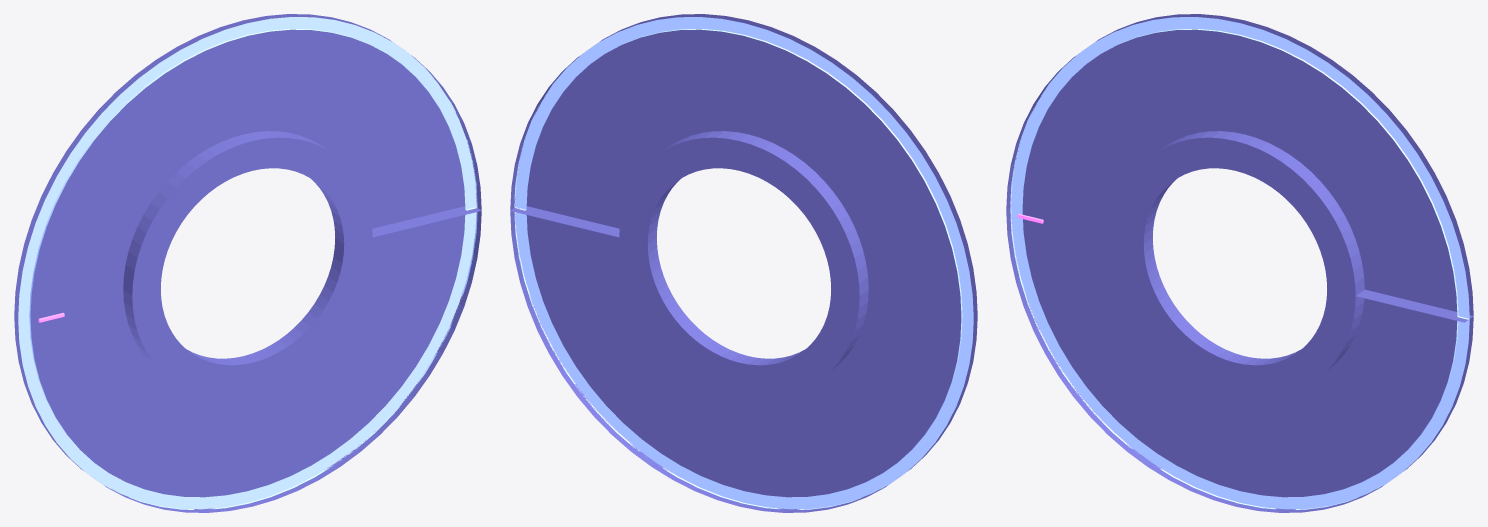
File: prism-panel-fun8-high.glb
The picture shows the model from 3 angles, left to right: view 1: azimuth 30°, elevation 25°; view 2: azimuth 150°, elevation 25°; view 3: azimuth 330°, elevation 25°; orthographic projection.
Visible parts, largest first — view 1: RENDER_PANEL_SHELL, RENDER_PANEL_FRAME; view 2: RENDER_PANEL_SHELL, RENDER_PANEL_FRAME; view 3: RENDER_PANEL_SHELL, RENDER_PANEL_FRAME.
Part boxes in pixels (x1,y1,x2,y2): RENDER_PANEL_SHELL: [14, 14, 481, 512]; RENDER_PANEL_FRAME: [18, 17, 477, 509]; RENDER_PANEL_SHELL: [510, 14, 977, 512]; RENDER_PANEL_FRAME: [514, 17, 973, 509]; RENDER_PANEL_SHELL: [1006, 14, 1473, 512]; RENDER_PANEL_FRAME: [1010, 17, 1469, 509].
Size of what is drawn, in the model's own units: 41 by 41 by 1.81.
